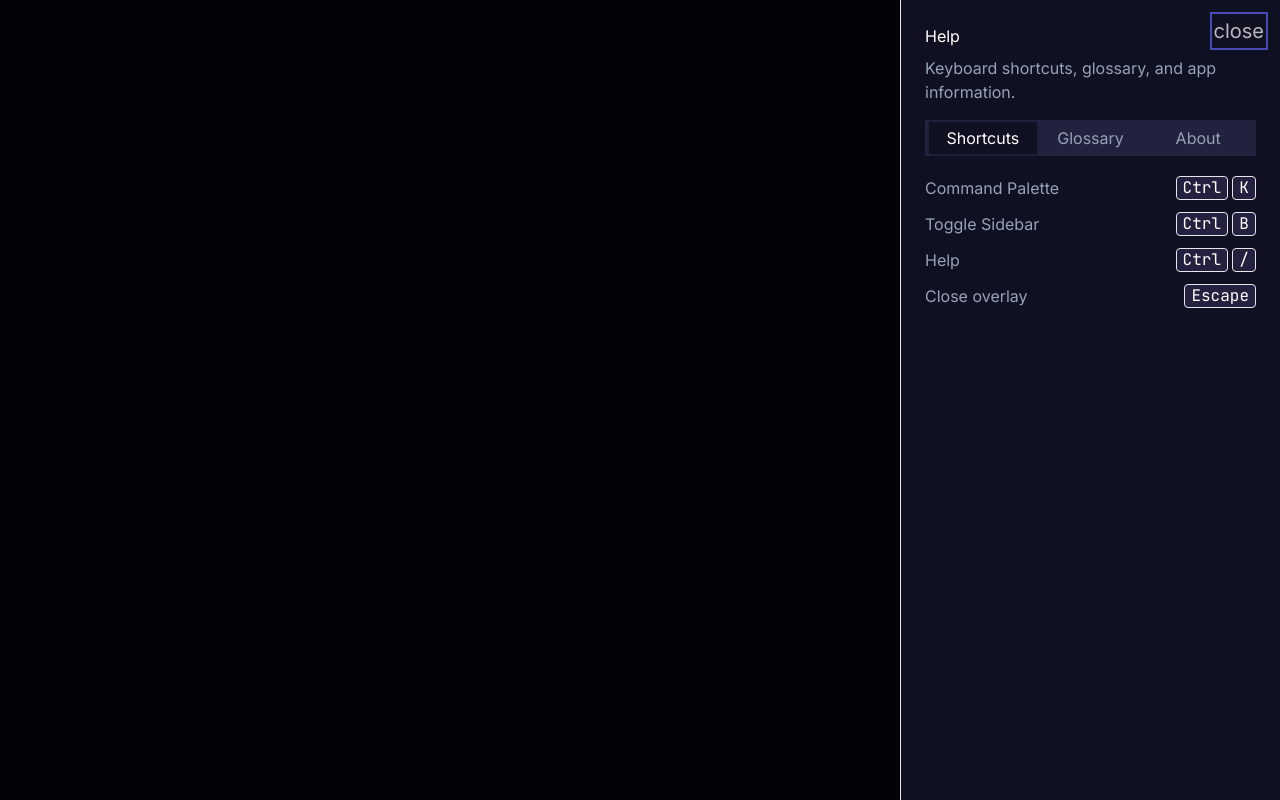
it: HelpDrawer › can switch to glossary tab
This screenshot has width=1280, height=800.
Click the tab "Glossary". click: {"x": 1091, "y": 138}
box: top-left (1037, 122), bottom-right (1144, 154)
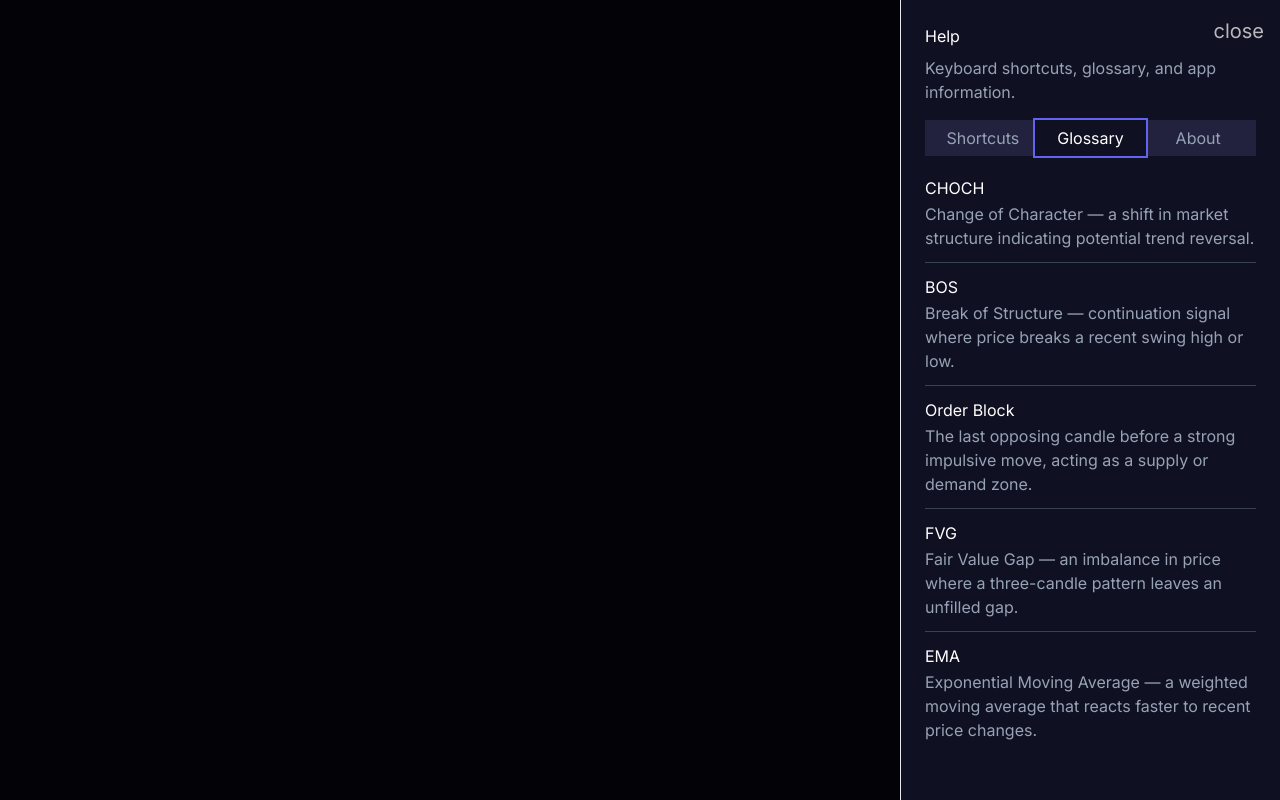
Expected: the text "CHOCH" is shown, top-left (925, 178), bottom-right (984, 198)
Expected: the text "BOS" is shown, top-left (925, 277), bottom-right (958, 297)
Expected: the text "Order Block" is shown, top-left (925, 400), bottom-right (1014, 420)
